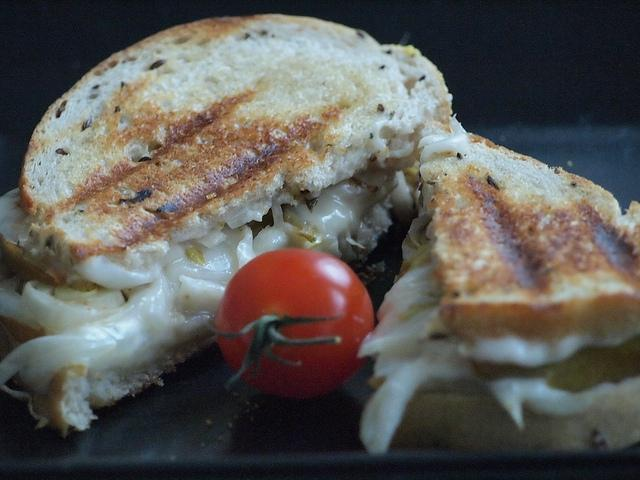tomato: (200, 248, 374, 400)
